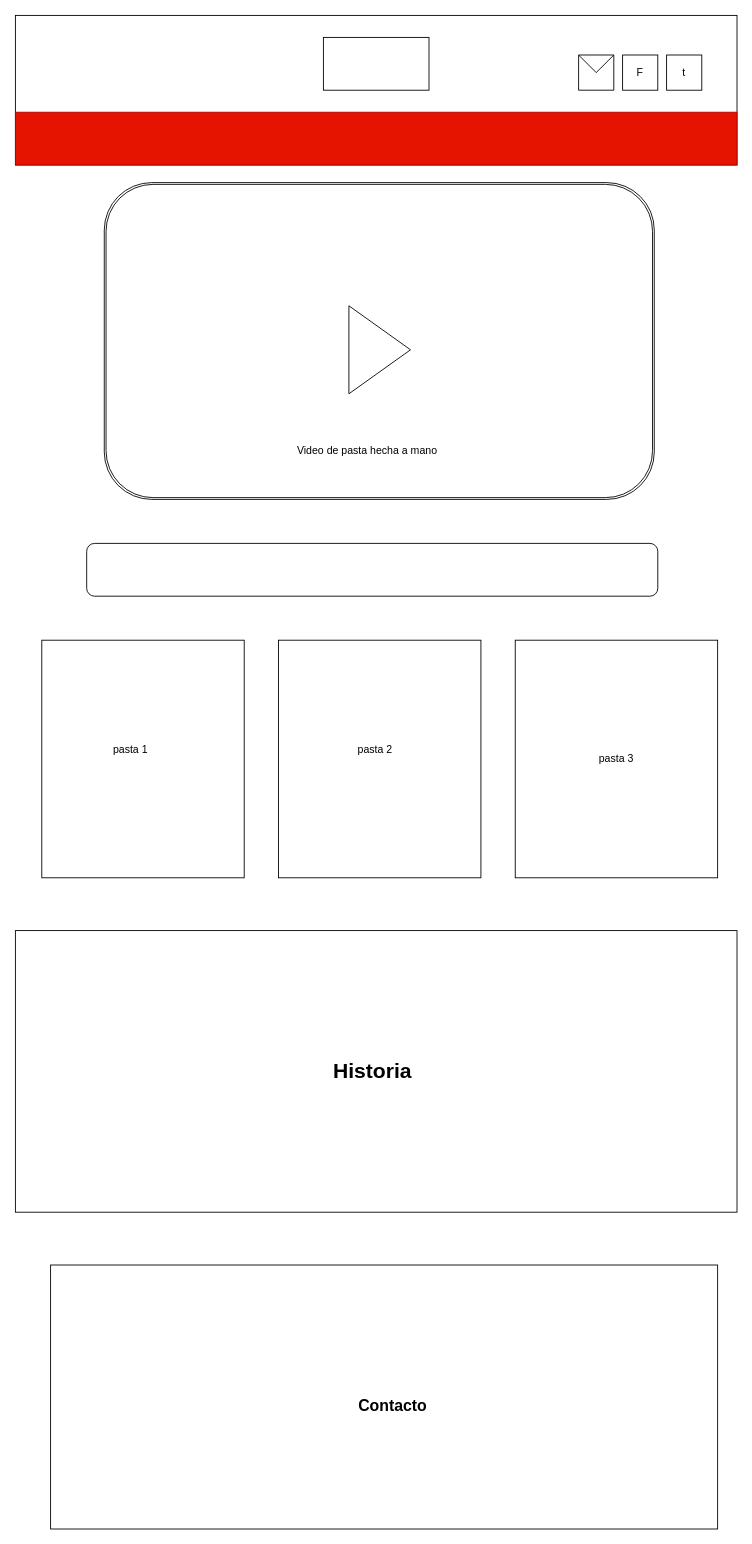
Some shapes in this 752 by 1544 pixel diagram are drawn without their labels. The centre of each missing label's shape, as x and y in pixels:
"LOGO" belongs at point (376, 63).
"Navbar" belongs at point (376, 138).
"Tipos de pasta" belongs at point (372, 569).
